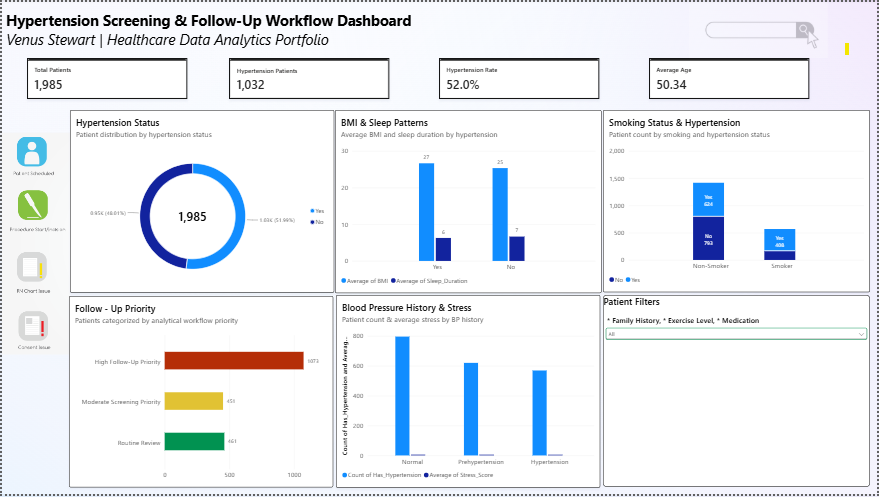

The dashboard page shown, as its layout file describes it:
{"tool":"powerbi","page":{"name":"Page 1","canvas":[1920,1080],"ordinal":0},"visuals":[{"type":"textbox","box":[0,0,1920,123.5],"z":0},{"type":"image","box":[0,0,148.7,1060.8],"z":1000},{"type":"cardVisual","fields":{"Data":["SQLite 13.Total Patients"]},"box":[55.4,123.5,352.8,90.7],"z":2000},{"type":"cardVisual","fields":{"Data":["SQLite 13.Hypertension Rate"]},"box":[498.9,123.5,352.8,90.7],"z":3000},{"type":"cardVisual","fields":{"Data":["Avg(SQLite 13.Age)"]},"box":[1421.1,123.5,352.8,90.7],"z":4000},{"type":"cardVisual","fields":{"Data":["SQLite 13.Hypertension Rate"]},"box":[960,123.5,352.8,90.7],"z":5000},{"type":"donutChart","title":"Hypertension Status","fields":{"Category":["SQLite 13.Has_Hypertension"],"Y":["CountNonNull(SQLite 13.Salt_Intake)"],"Series":["SQLite 13.Has_Hypertension"]},"box":[148.7,236.9,579.5,400.6],"z":6000},{"type":"clusteredColumnChart","title":"BMI & Sleep Patterns","fields":{"Category":["SQLite 13.Has_Hypertension"],"Y":["Avg(SQLite 13.BMI)","Avg(SQLite 13.Sleep_Duration)"]},"box":[730,236.7,585,401.7],"z":7000},{"type":"columnChart","title":"Smoking Status & Hypertension","fields":{"Category":["SQLite 13.Smoking_Status"],"Series":["SQLite 13.Has_Hypertension"],"Y":["CountNonNull(SQLite 13.Has_Hypertension)"]},"box":[1317.8,236.9,602.2,400.6],"z":8000},{"type":"clusteredBarChart","title":"Follow - Up Priority","fields":{"Y":["CountNonNull(SQLite 13.Follow_Up_Priority)"],"Category":["SQLite 13.Follow_Up_Priority"]},"box":[147.5,645,580,420],"z":9000},{"type":"clusteredColumnChart","title":"Blood Pressure History & Stress","fields":{"Category":["SQLite 13.BP_History"],"Y":["CountNonNull(SQLite 13.Has_Hypertension)","Avg(SQLite 13.Stress_Score)"]},"box":[732.5,642.5,580,422.5],"z":10000},{"type":"image","box":[1403.5,0,516.5,123.5],"z":11000},{"type":"slicer","title":"Patient Filters","fields":{"Values":["SQLite 13.Family_History","SQLite 13.Exercise_Level","SQLite 13.Medication"]},"box":[1318,643,602,422],"z":12000}]}

Visuals, with their boxes in screenshot pixels (x1, y1, x2, y2):
textbox: [5, 0, 871, 56]
image: [5, 0, 72, 479]
cardVisual - SQLite 13.Total Patients: [30, 56, 189, 97]
cardVisual - SQLite 13.Hypertension Rate: [230, 56, 389, 97]
cardVisual - Avg(SQLite 13.Age): [646, 56, 805, 97]
cardVisual - SQLite 13.Hypertension Rate: [438, 56, 597, 97]
"Hypertension Status" donutChart: [72, 107, 333, 288]
"BMI & Sleep Patterns" clusteredColumnChart: [334, 107, 598, 288]
"Smoking Status & Hypertension" columnChart: [600, 107, 871, 288]
"Follow - Up Priority" clusteredBarChart: [71, 291, 333, 481]
"Blood Pressure History & Stress" clusteredColumnChart: [335, 290, 597, 481]
image: [638, 0, 871, 56]
"Patient Filters" slicer: [600, 290, 871, 481]
